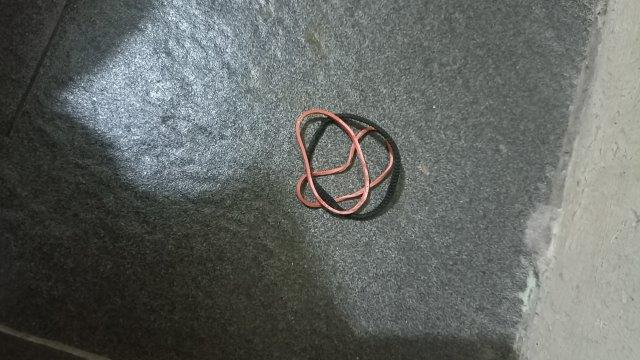karet: (296, 109, 400, 221)
